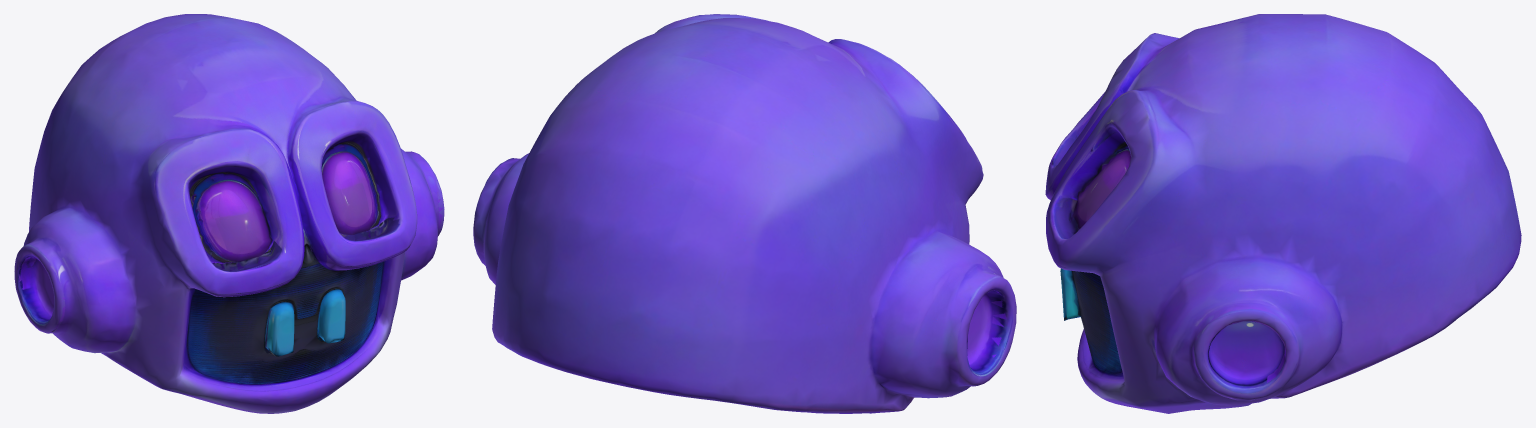
File: Blue_Bot_0531082022_texture.glb
The picture shows the model from 3 angles, left to right: view 1: azimuth 30°, elevation 25°; view 2: azimuth 150°, elevation 25°; view 3: azimuth 270°, elevation 25°; orthographic projection. The views are drawn at different scales.
Bounding box in the file's own units: 2 × 1.58 × 1.89.
Materials: 1 (1 with a texture image).
